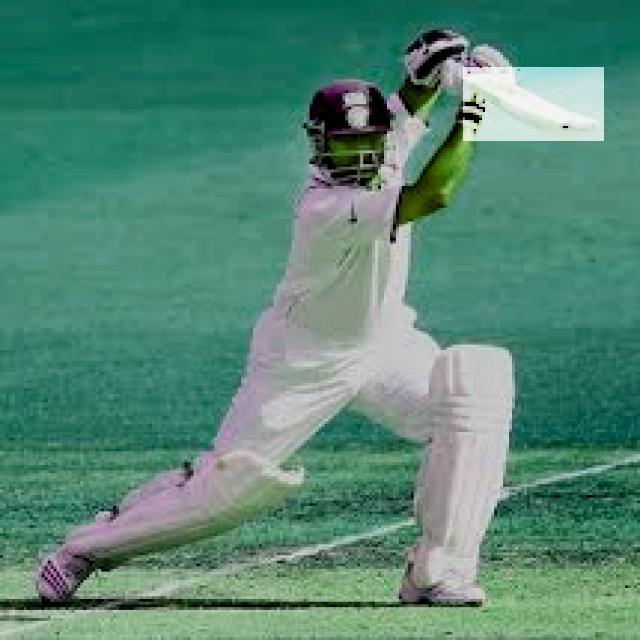bat: (462, 66, 606, 143)
toe: (552, 118, 603, 143)
